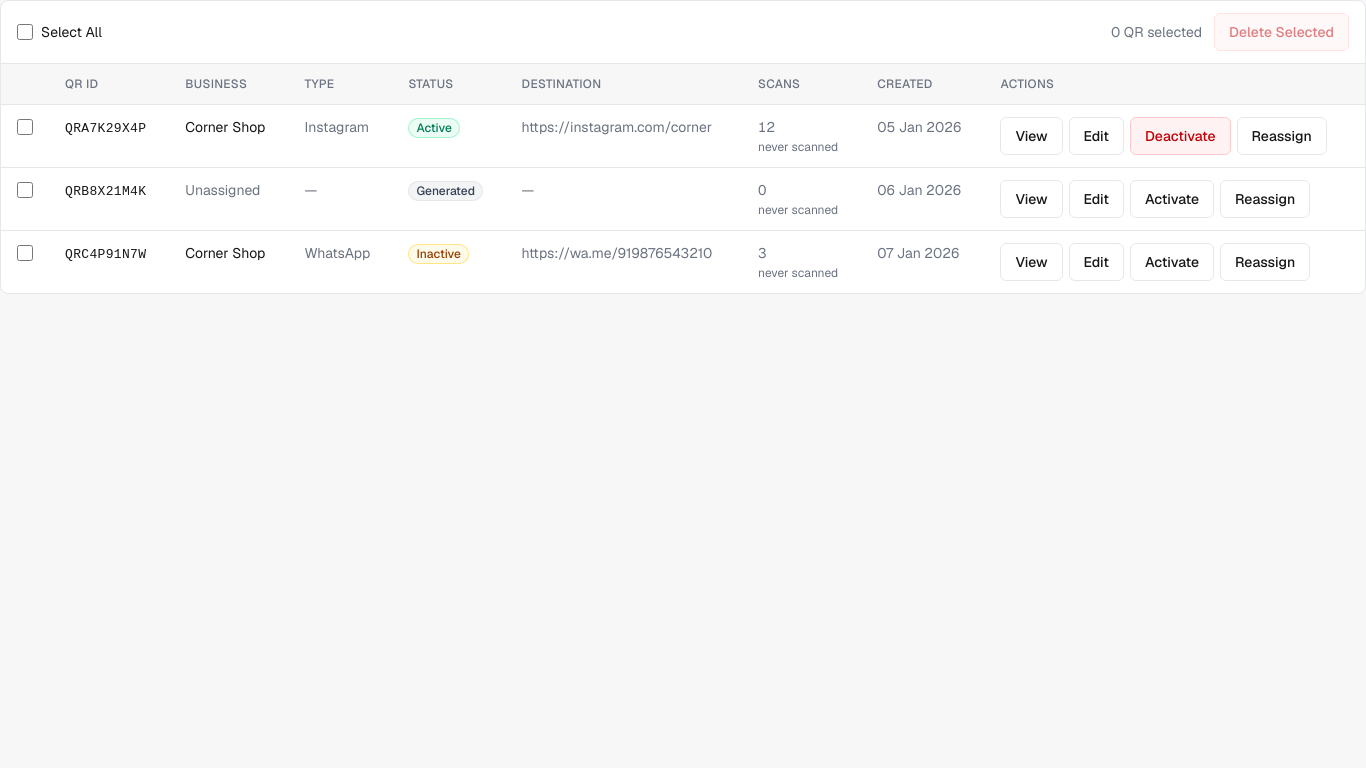
Test: confirming a deletion › warns when an active code is included
Step 1. Click the checkbox named "Select QRA7K29X4P" → (25, 127), box [17,119,33,135]
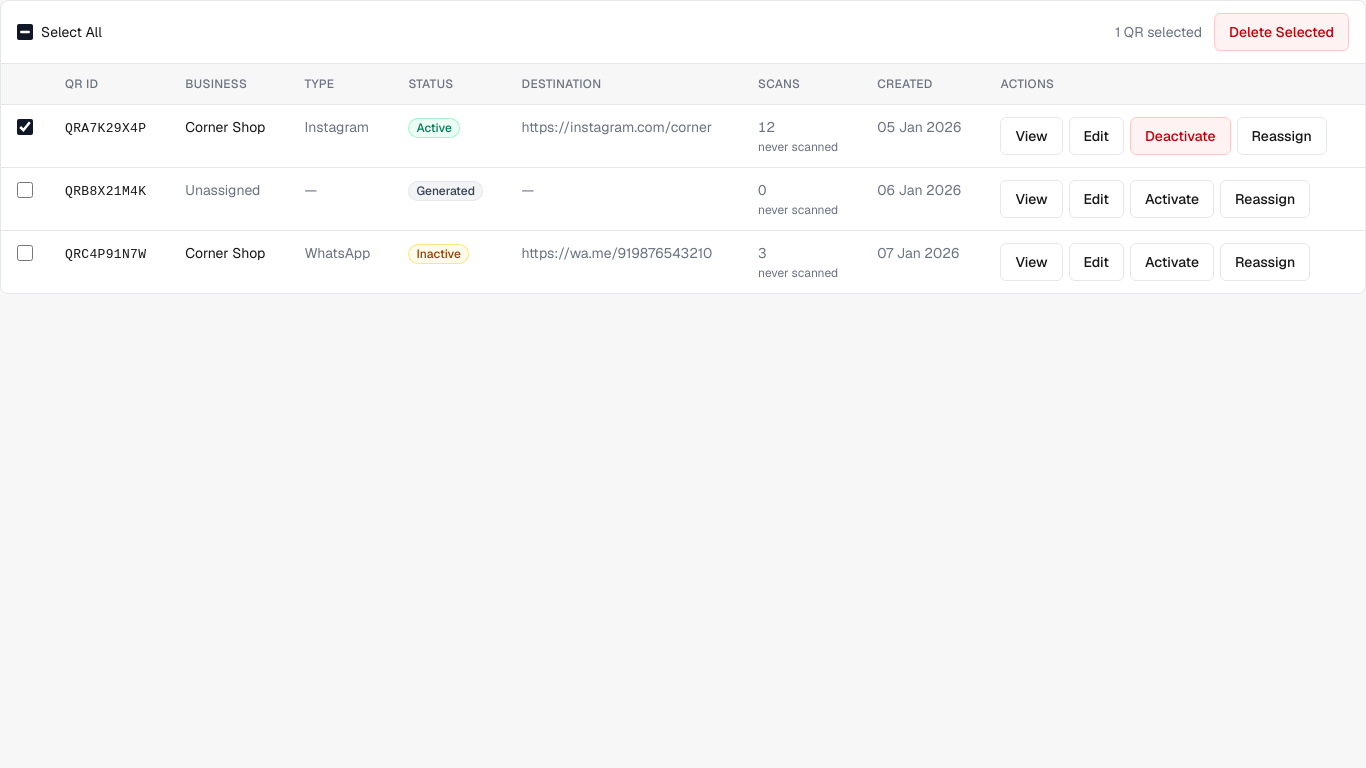
Step 2. Click the button "Delete Selected" → (1282, 32), box [1214,13,1349,51]
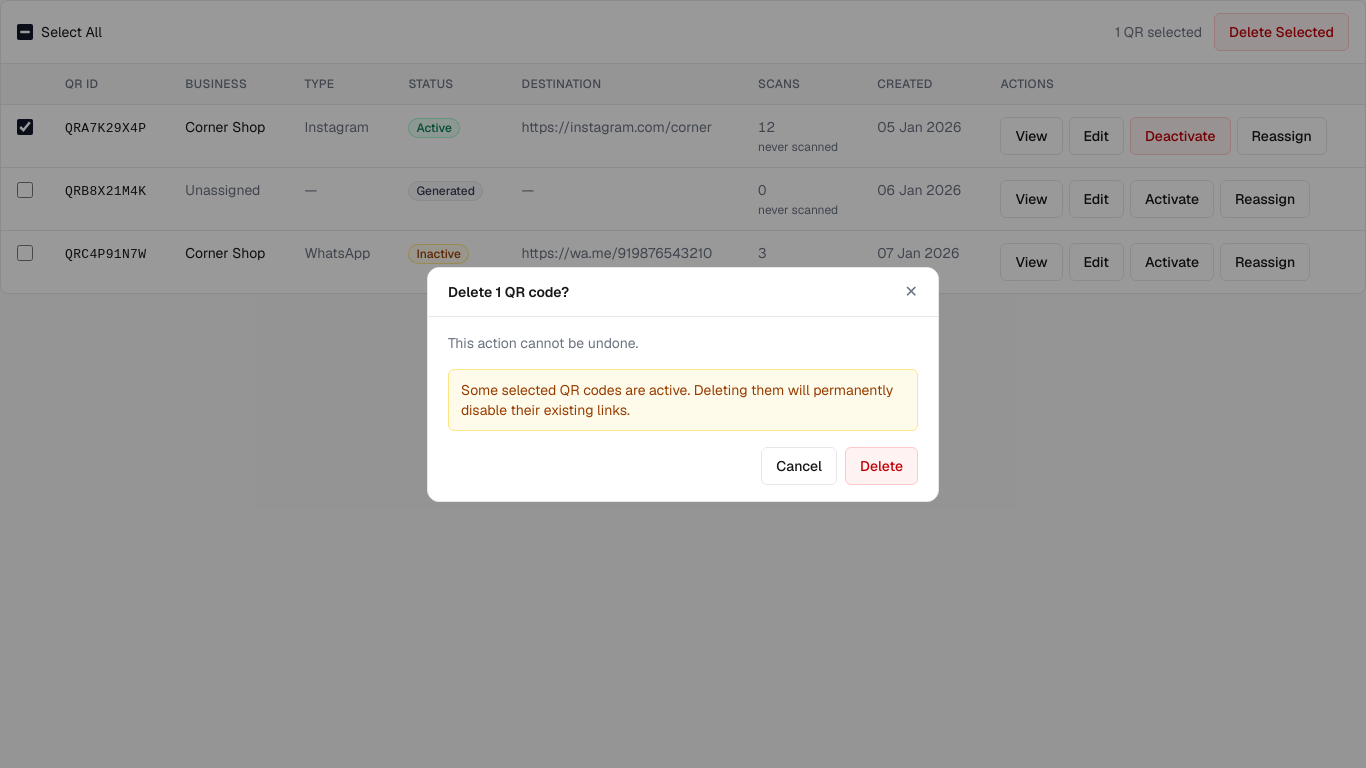
Check: the dialog shows "Some selected QR codes are active. Deleting them will permanently disable their existing links.", box [461,380,893,418]
